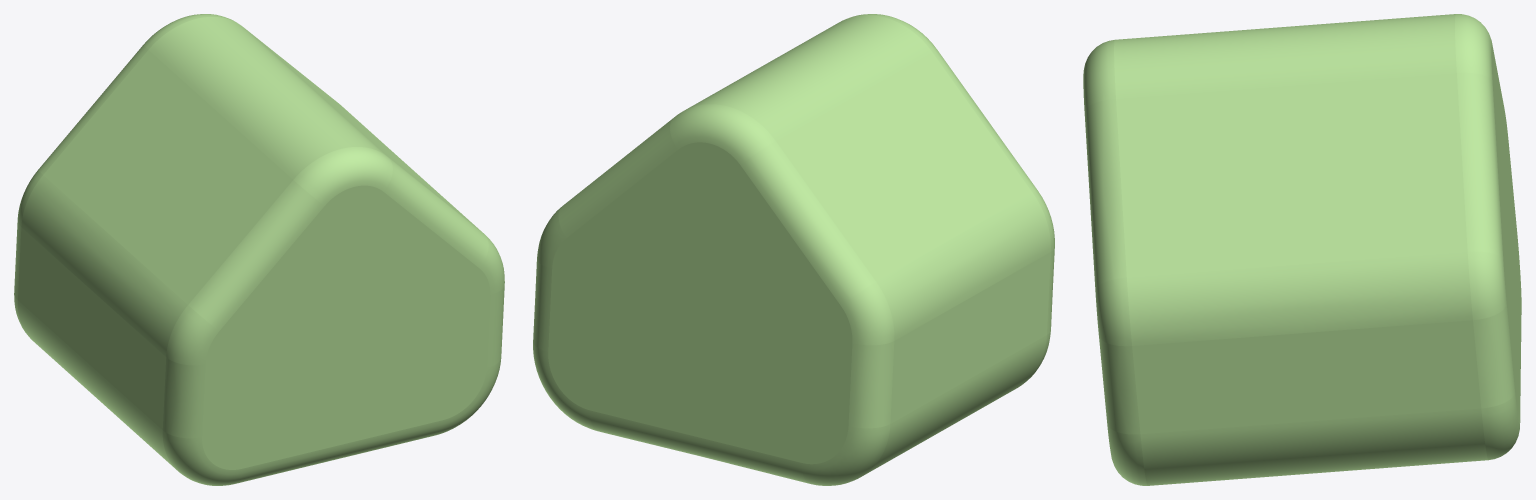
File: HomieHead6.glb
3 views of the same model, side by side, from view 1: azimuth 30°, elevation 25°; view 2: azimuth 150°, elevation 25°; view 3: azimuth 270°, elevation 25° (orthographic). The views are drawn at different scales.
Visible parts, largest first — view 1: FUR; view 2: FUR; view 3: FUR.
Boxes of the visible parts, x1=… form: FUR: x1=14, y1=14, x2=504, y2=485; FUR: x1=533, y1=14, x2=1054, y2=485; FUR: x1=1083, y1=14, x2=1521, y2=485.
Bounding box in the file's own units: 0.5065 × 0.4939 × 0.4916.
